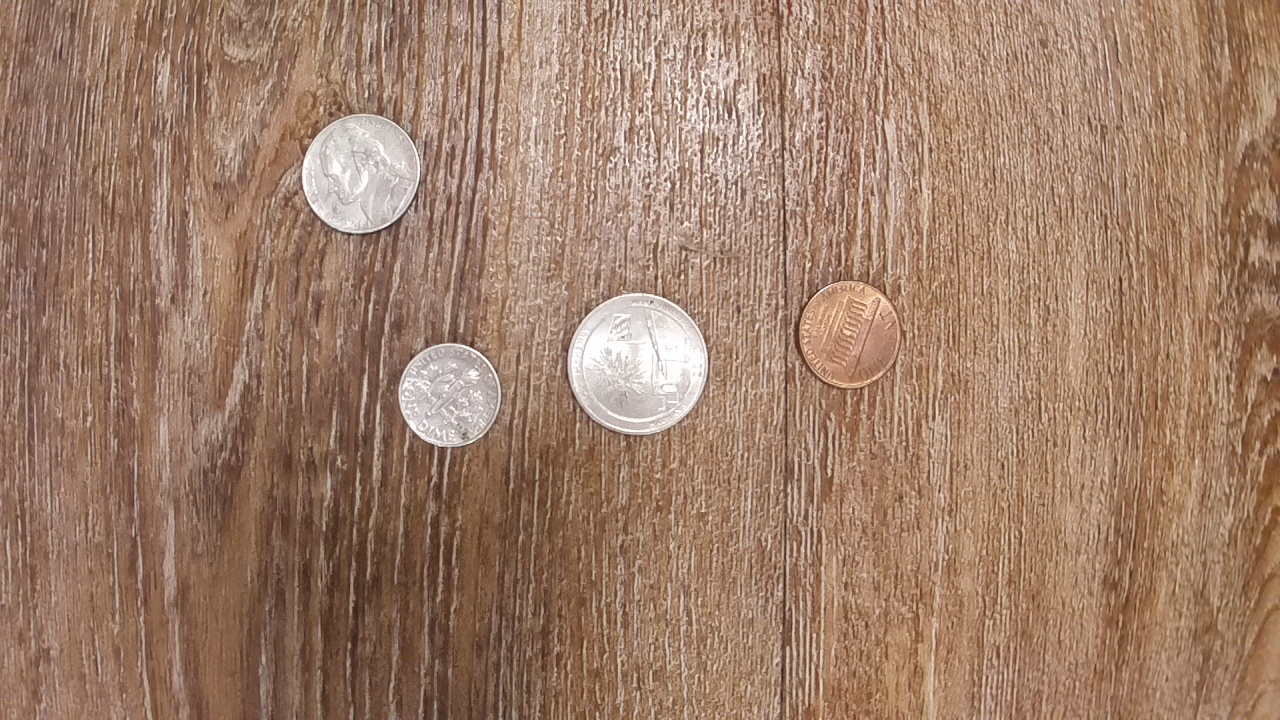dime: (396, 339, 504, 451)
nickel: (292, 106, 428, 244)
penny: (794, 276, 904, 392)
quarter: (560, 289, 714, 441)
